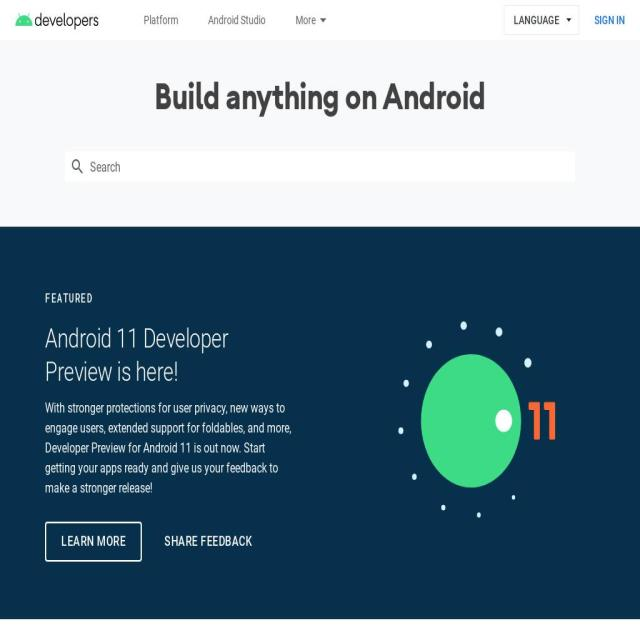button: (45, 520, 142, 562), (504, 5, 579, 35), (15, 7, 99, 33), (164, 530, 252, 552), (589, 5, 630, 35)
field: (65, 152, 575, 182)
heading: (45, 321, 293, 388), (154, 74, 486, 118)
image: (371, 287, 571, 553), (15, 7, 99, 33)
link: (208, 0, 266, 40), (144, 0, 178, 40), (296, 0, 330, 40)
text: (45, 398, 293, 498), (45, 288, 93, 308)
